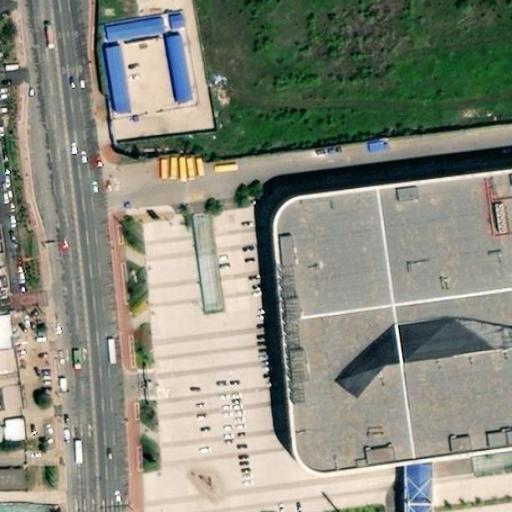building: (266, 167, 512, 473), (196, 232, 229, 328), (102, 30, 172, 61), (105, 58, 135, 129), (164, 49, 195, 117), (6, 432, 32, 458), (0, 311, 11, 350)
